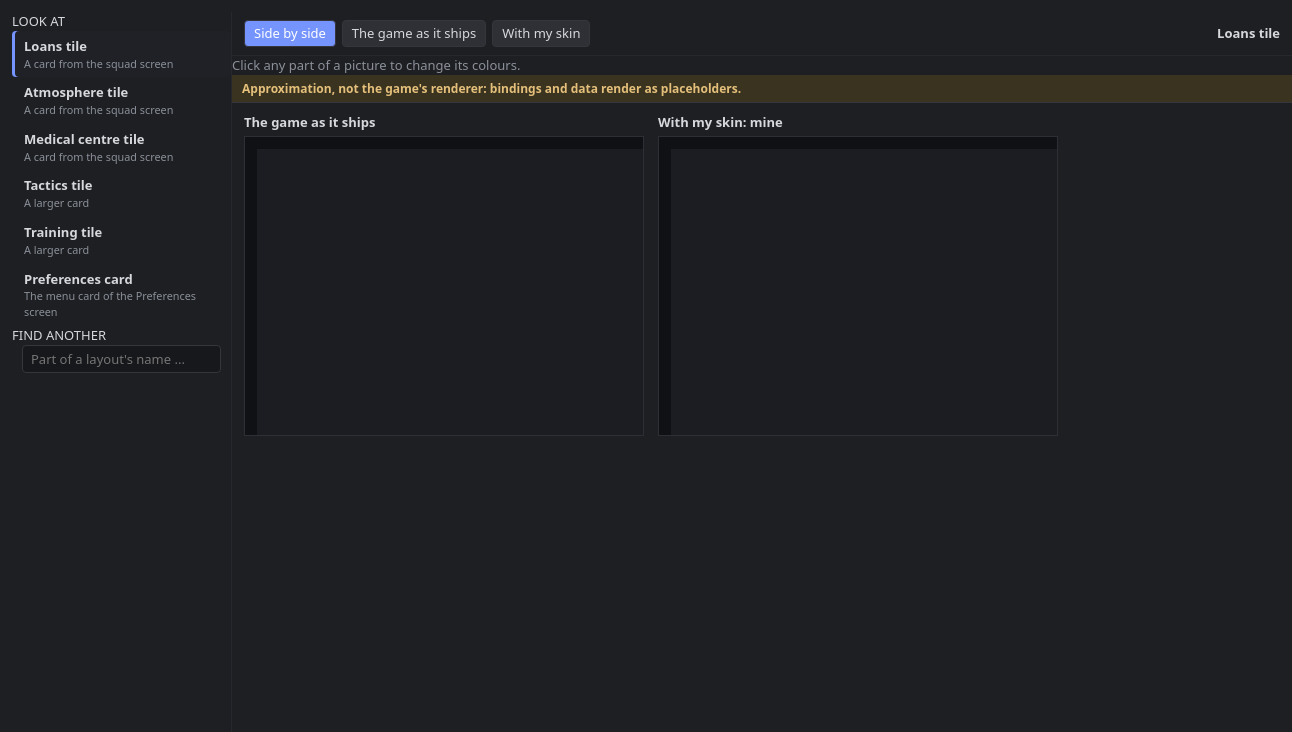
Test: Look at it › the switch shows one side at a time, and the approximation notice is the engine's own, shown once
Expected: the text "With my skin: mine" is shown, [658,113,783,131]
Expected: the text "Approximation, not the game's renderer: bindings and data render as placeholders." is shown, [242,80,741,97]
Click the button "The game as it ships" at (414, 33), box [342,20,486,47]
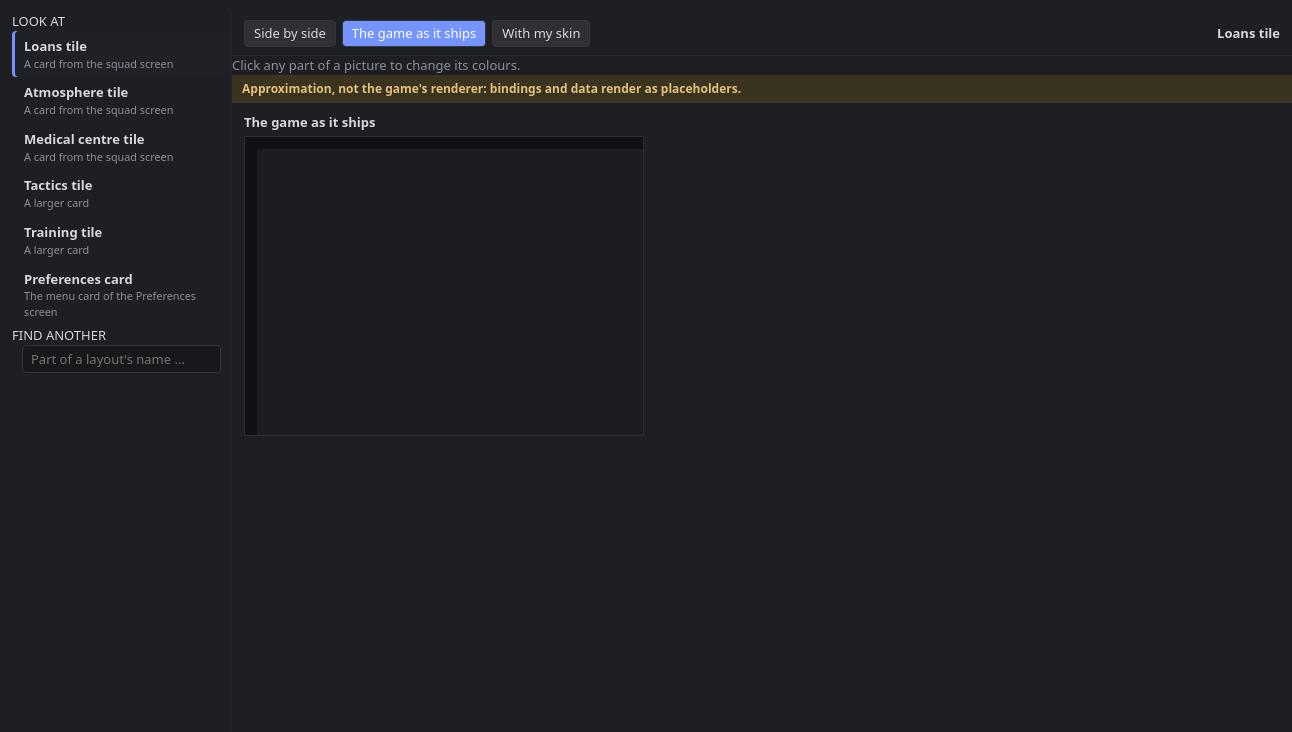
Expected: the number of elements with test id "stage" is 1, [257,149,644,436]
Expected: the text "With my skin: mine" is gone
Click the button "With my skin" at (541, 33), box [492,20,590,47]
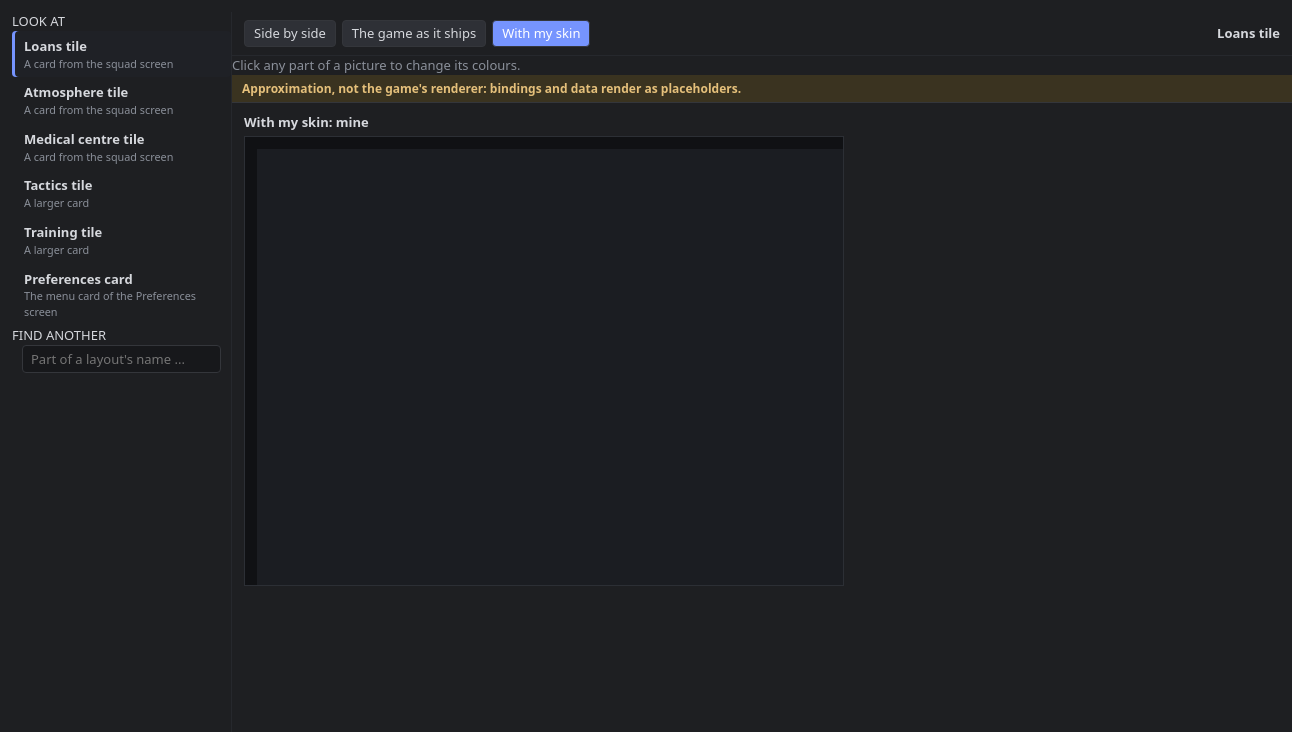
Expected: the text "With my skin: mine" is shown, [244,113,369,131]
